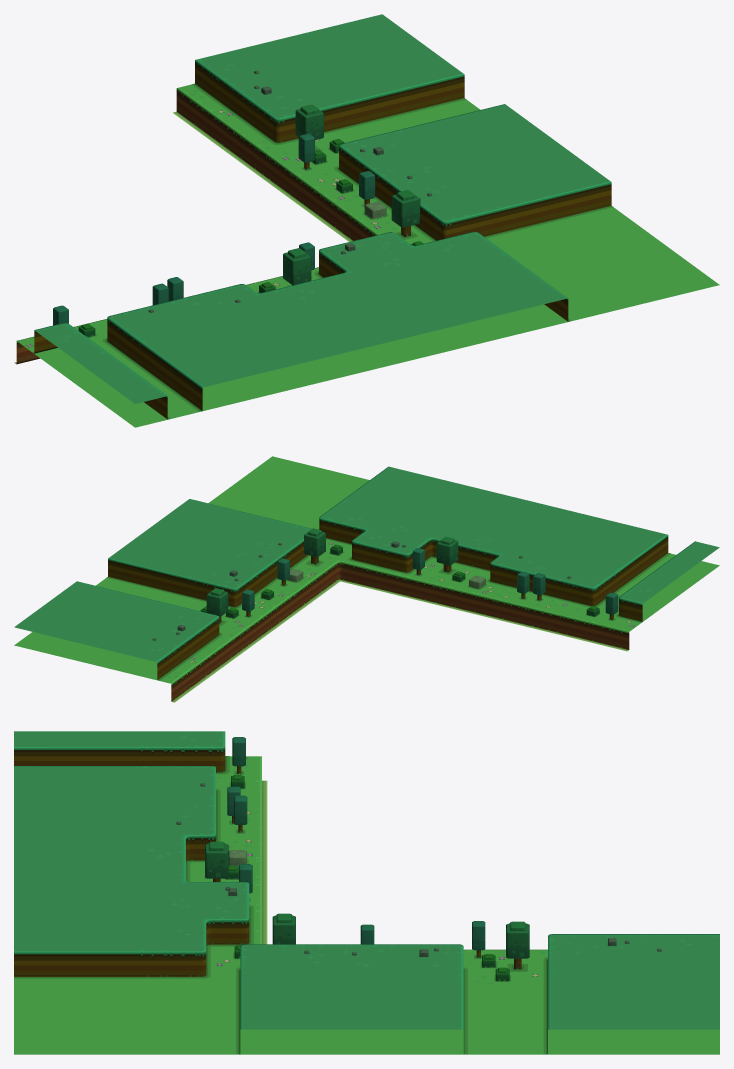
The model's file is C_grass1_out_LU.fbx.
3 renders of one model, top to bottom at view 1: azimuth 30°, elevation 25°; view 2: azimuth 150°, elevation 25°; view 3: azimuth 270°, elevation 25°, orthographic. The views are drawn at different scales.
Visible parts, largest first — view 1: C_grass1_out_LU; view 2: C_grass1_out_LU; view 3: C_grass1_out_LU.
Boxes of the visible parts, x1,y1,x2,y2 form: C_grass1_out_LU: [14, 14, 719, 427]; C_grass1_out_LU: [14, 456, 719, 702]; C_grass1_out_LU: [14, 731, 719, 1054].
Size of the model in its own units: 117 by 12.59 by 117.
